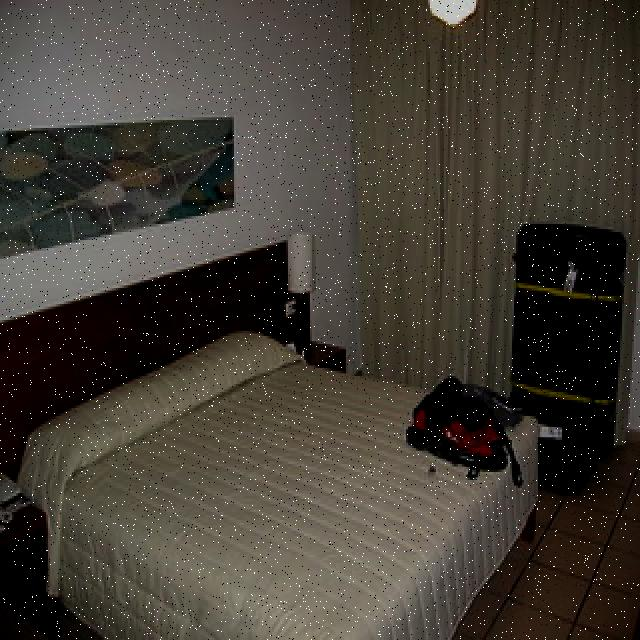bed: (8, 244, 541, 640)
